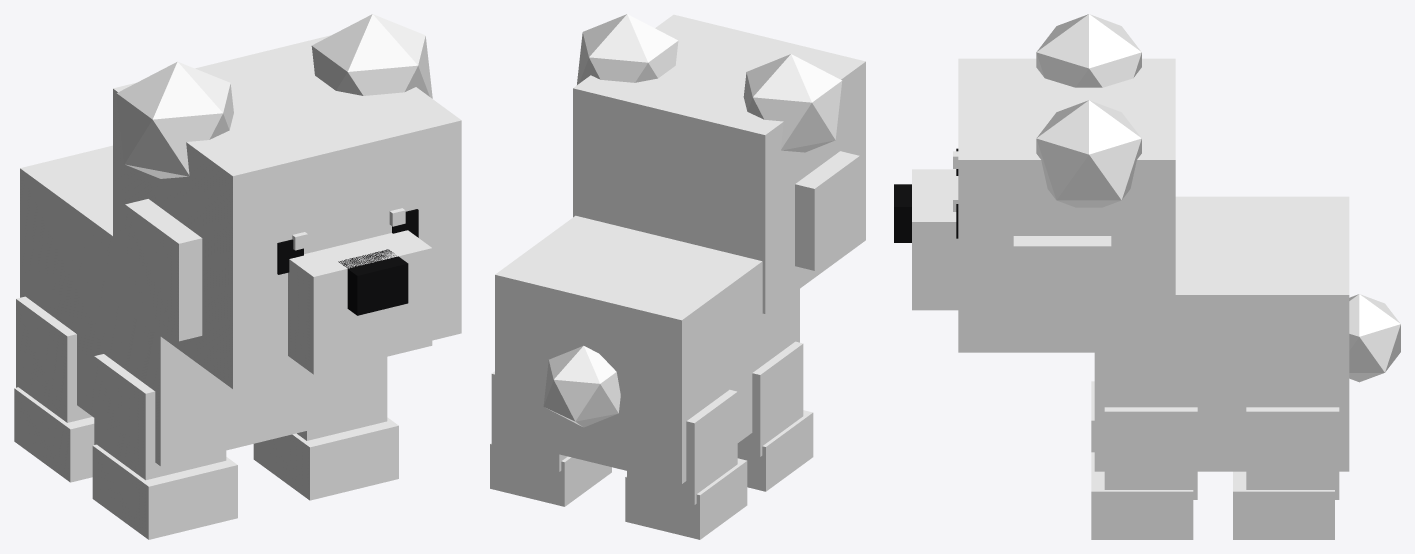
Rendered from bearcub.fbx.
3 views of the same model, side by side, from view 1: azimuth 30°, elevation 25°; view 2: azimuth 150°, elevation 25°; view 3: azimuth 270°, elevation 25° (orthographic). The views are drawn at different scales.
Visible parts, largest first — view 1: Head, Torso, Muzzle, Ears, Leg_FL, Leg_BL, Leg_FR, Eyes; view 2: Torso, Head, Ears, Leg_BL, Leg_FL, Leg_BR, Tail; view 3: Head, Torso, Ears, Leg_FR, Leg_BR, Muzzle, Tail.
Boxes of the visible parts, x1=… form: Head: x1=113, y1=35, x2=461, y2=388; Torso: x1=20, y1=145, x2=383, y2=466; Muzzle: x1=288, y1=230, x2=432, y2=374; Ears: x1=116, y1=14, x2=432, y2=178; Leg_FL: x1=92, y1=354, x2=237, y2=539; Leg_BL: x1=14, y1=296, x2=94, y2=482; Leg_FR: x1=253, y1=357, x2=398, y2=500; Eyes: x1=277, y1=208, x2=418, y2=274; Torso: x1=495, y1=215, x2=799, y2=484; Head: x1=573, y1=14, x2=865, y2=313; Ears: x1=577, y1=14, x2=842, y2=152; Leg_BL: x1=625, y1=389, x2=747, y2=539; Leg_FL: x1=737, y1=341, x2=813, y2=491; Leg_BR: x1=490, y1=371, x2=611, y2=506; Tail: x1=543, y1=345, x2=620, y2=427; Head: x1=958, y1=58, x2=1175, y2=352; Torso: x1=1094, y1=196, x2=1349, y2=471; Ears: x1=1036, y1=14, x2=1141, y2=207; Leg_FR: x1=1091, y1=407, x2=1197, y2=539; Leg_BR: x1=1233, y1=407, x2=1339, y2=539; Muzzle: x1=894, y1=169, x2=958, y2=310; Tail: x1=1349, y1=294, x2=1400, y2=382.
Bounding box in the file's own units: 1.42 × 2.14 × 2.29.
